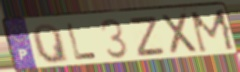3: (99, 17, 129, 60)
L: (65, 23, 99, 62)
M: (188, 7, 238, 55)
Q: (31, 23, 72, 65)
X: (159, 11, 201, 57)
Z: (129, 14, 168, 58)
